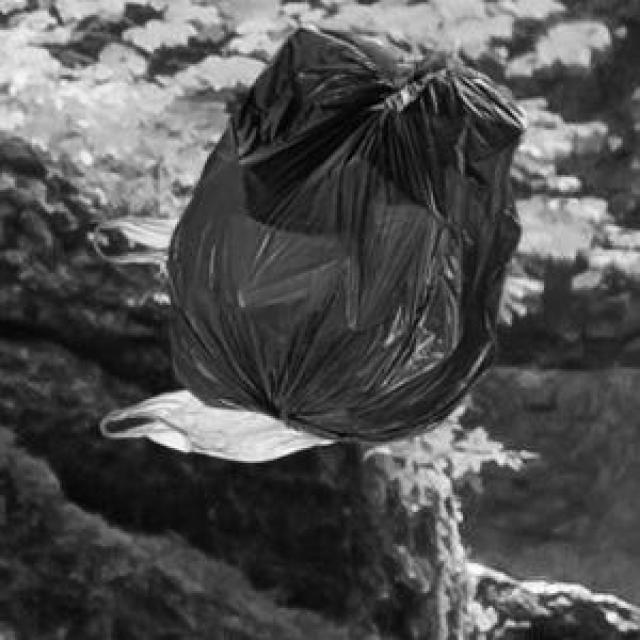miscellaneous trash: (164, 21, 523, 440)
